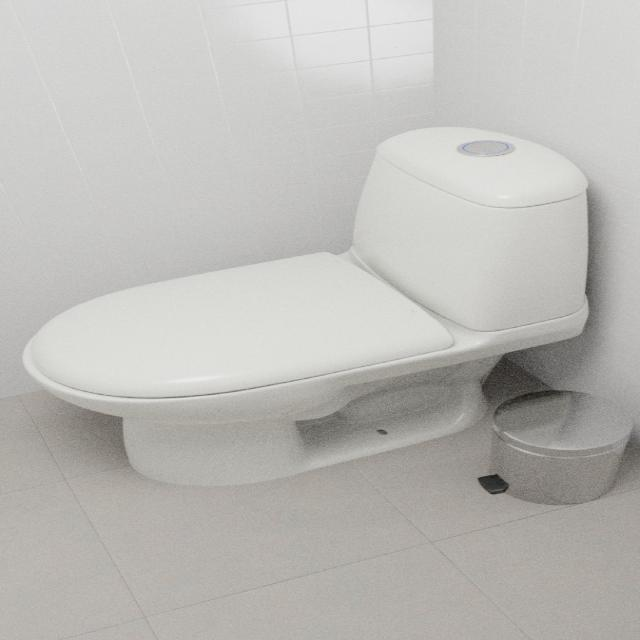toilet: (21, 125, 592, 487)
